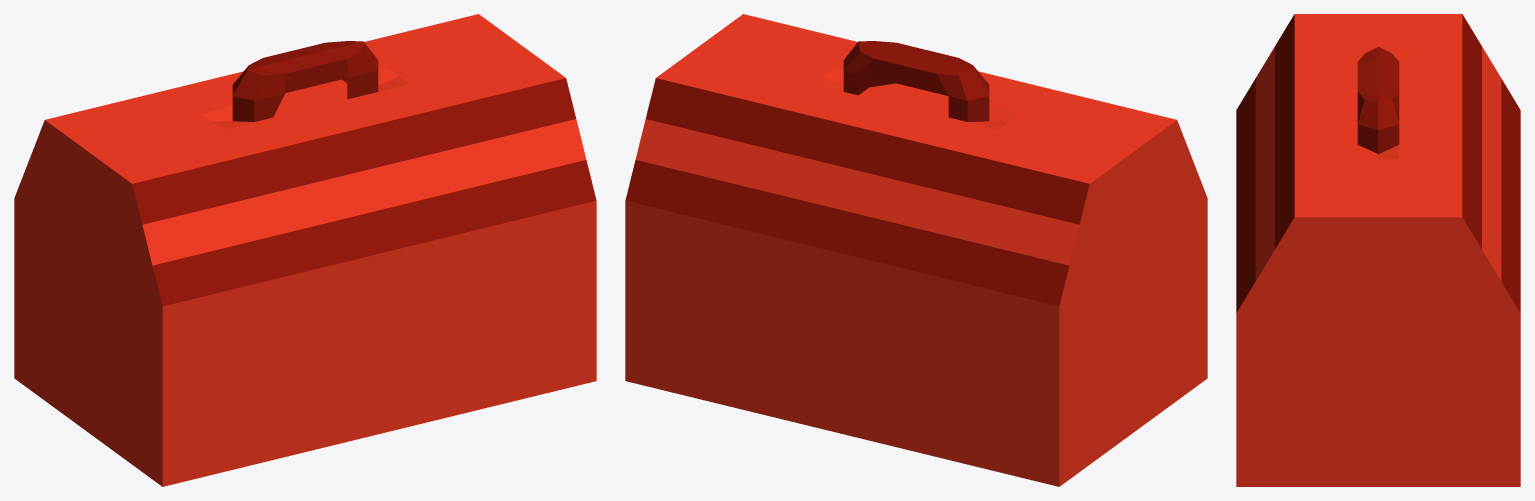
The model's file is Props_StorageRoom_ToolBox.fbx.
3 renders of one model, left to right at view 1: azimuth 30°, elevation 25°; view 2: azimuth 150°, elevation 25°; view 3: azimuth 270°, elevation 25°, orthographic. The views are drawn at different scales.
Visible parts, largest first — view 1: ToolBox; view 2: ToolBox; view 3: ToolBox.
Part boxes in pixels (box(x1,y1,x2,y2)): ToolBox: box(14, 14, 596, 486); ToolBox: box(625, 14, 1207, 486); ToolBox: box(1236, 14, 1520, 486).
Bounding box in the file's own units: 200 × 143 × 118.
